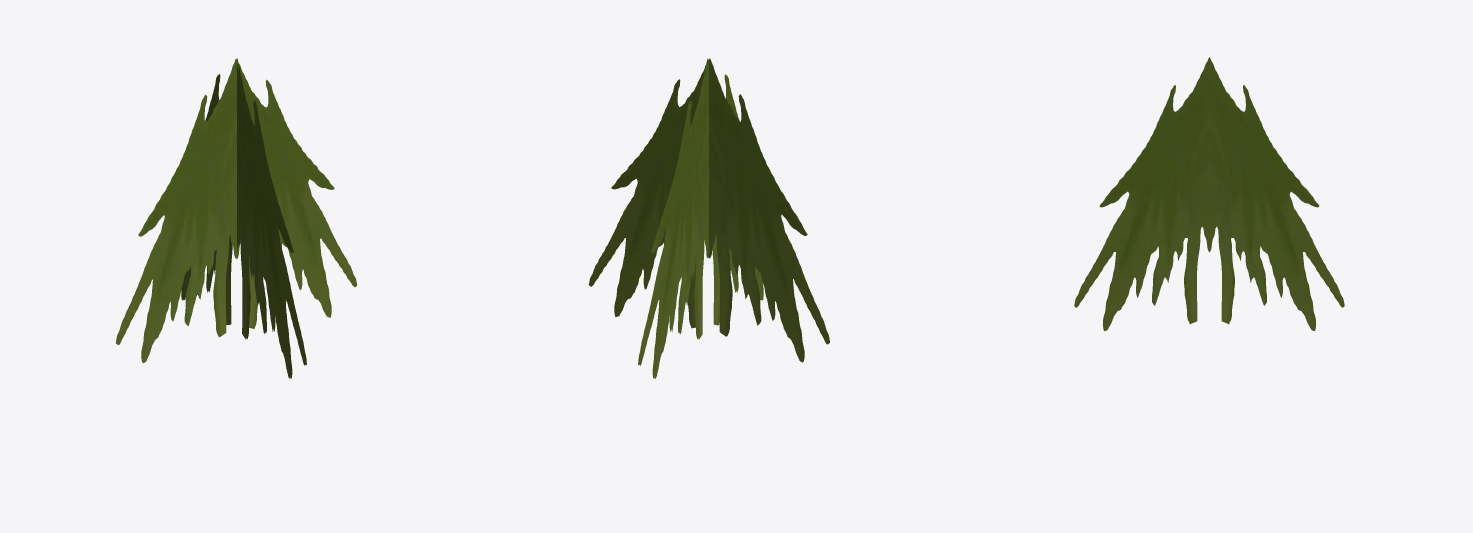
Rendered from bujian_08.fbx.
3 renders of one model, left to right at view 1: azimuth 30°, elevation 25°; view 2: azimuth 150°, elevation 25°; view 3: azimuth 270°, elevation 25°, orthographic. The views are drawn at different scales.
Parts seen in each view (by area): view 1: ca_build039_12; view 2: ca_build039_12; view 3: ca_build039_12.
Boxes of the visible parts, box(x1,y1,x2,y2) form: ca_build039_12: box(116, 58, 356, 378); ca_build039_12: box(589, 58, 829, 378); ca_build039_12: box(1074, 57, 1344, 330).
Size of the model in its own units: 2.84 by 2.51 by 2.84.
